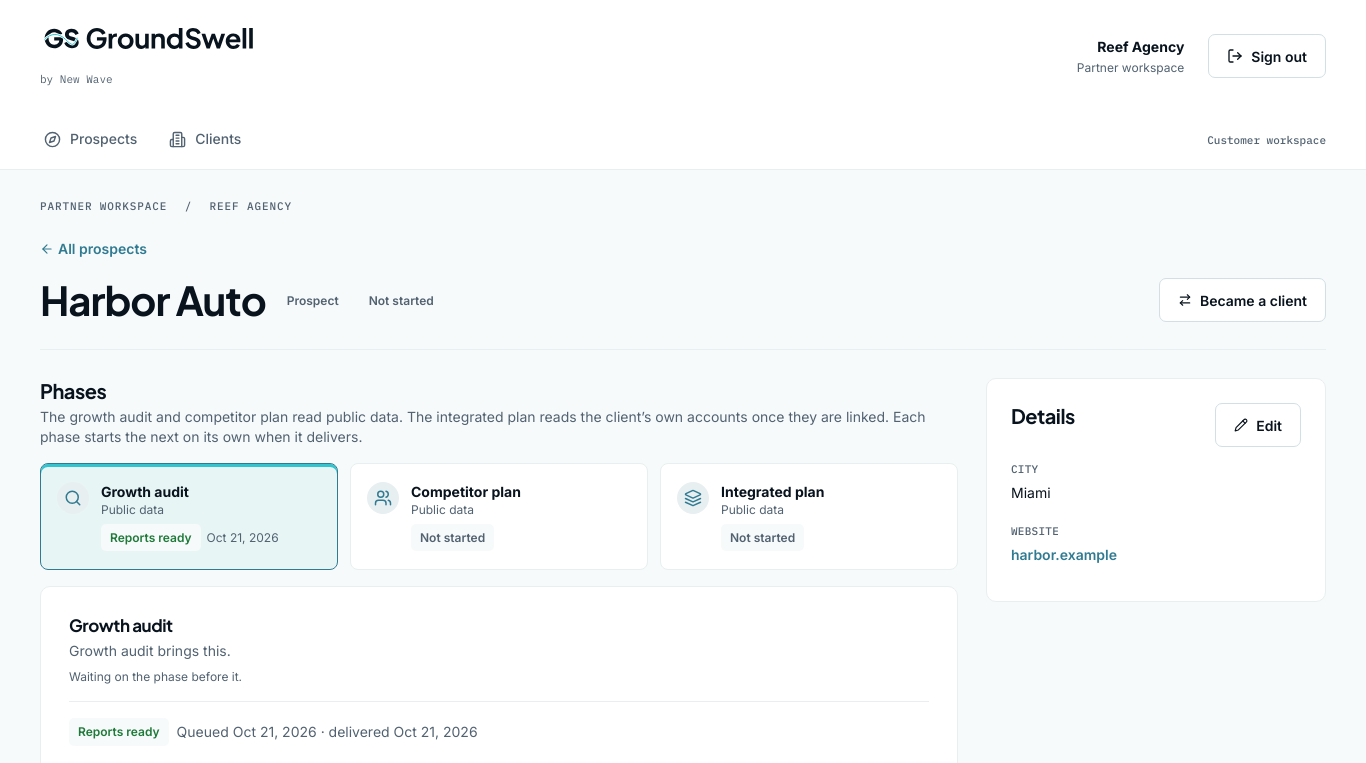
Test: partner customer page › "Became a client" moves the record over, keeping its phases, and the way back is one click
Click the button "Became a client" at (1242, 300), box [1159, 278, 1326, 322]
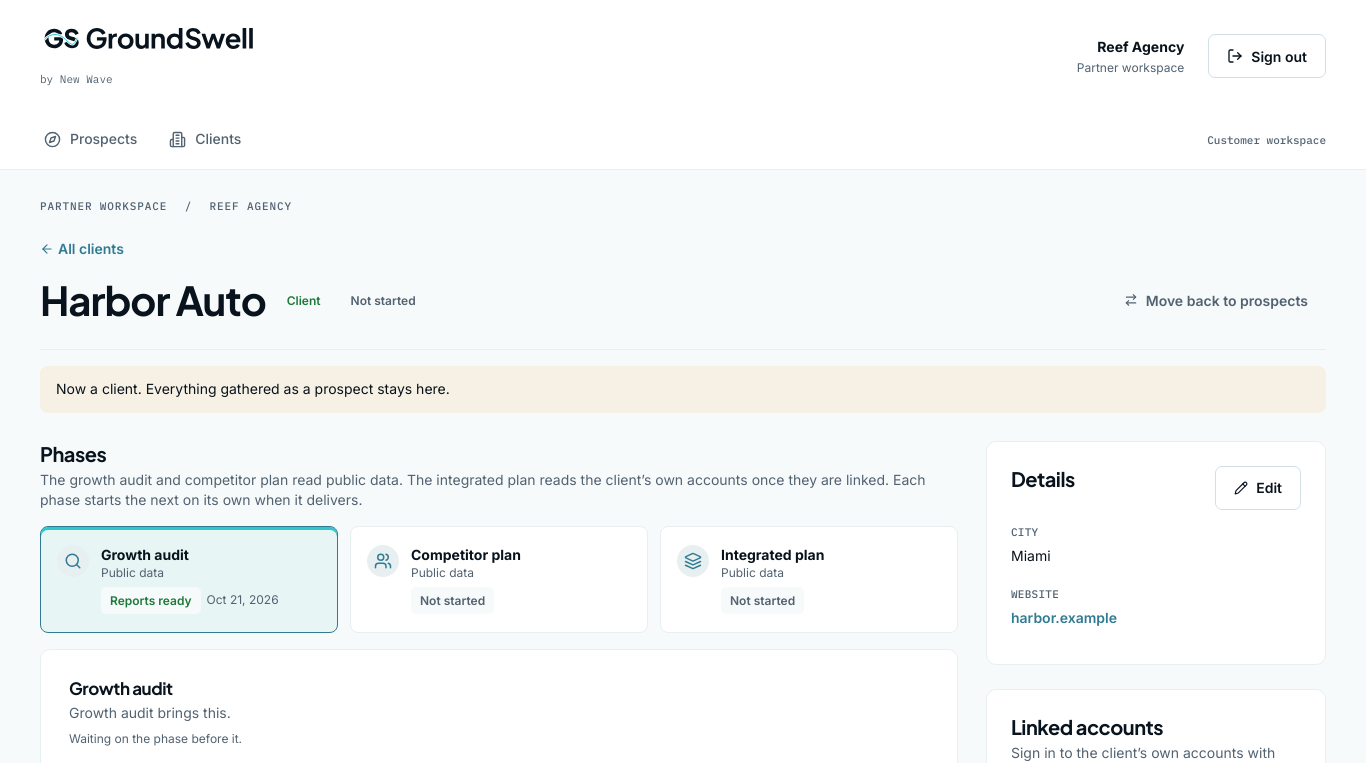
Expected: the heading "Growth audit" is shown, [69, 677, 173, 699]
Now the message reads "Now a client. Everything gathered as a prospect stays here.", box [56, 380, 450, 397]
Now the text "Client" is shown, box [278, 287, 330, 314]
Click the button "Move back to prospects" at (1216, 300), box [1106, 278, 1326, 322]
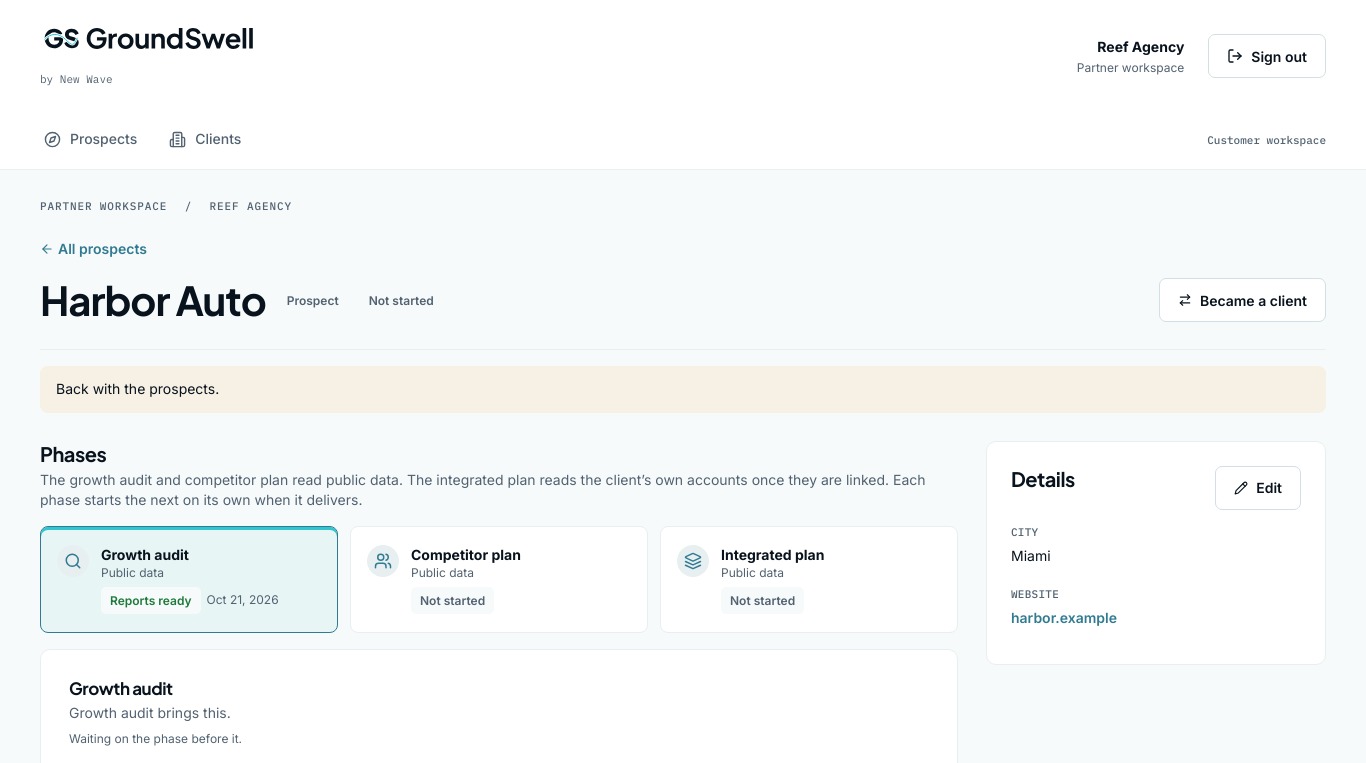
Now the button "Became a client" is shown, box [1159, 278, 1326, 322]
